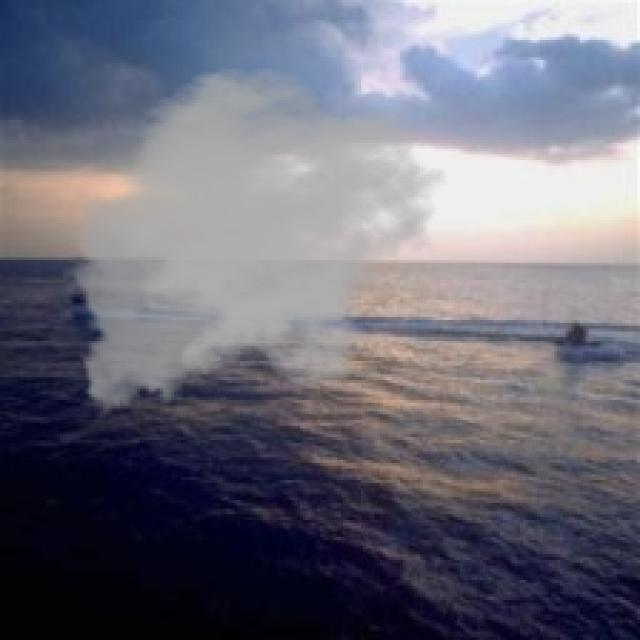smoke: (60, 66, 449, 426)
